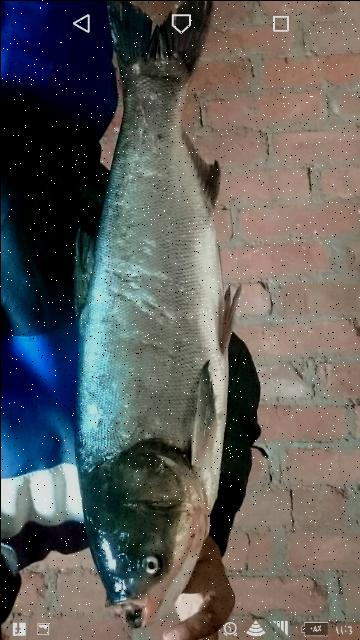Mulut: (99, 582, 160, 638)
Sirip Anal: (162, 115, 238, 218)
Sirip Dada: (152, 356, 232, 478)
Sirip Ekor: (90, 0, 212, 96)
Sirip Perut: (197, 276, 248, 356)
Sirip Punggung: (52, 213, 108, 344)
